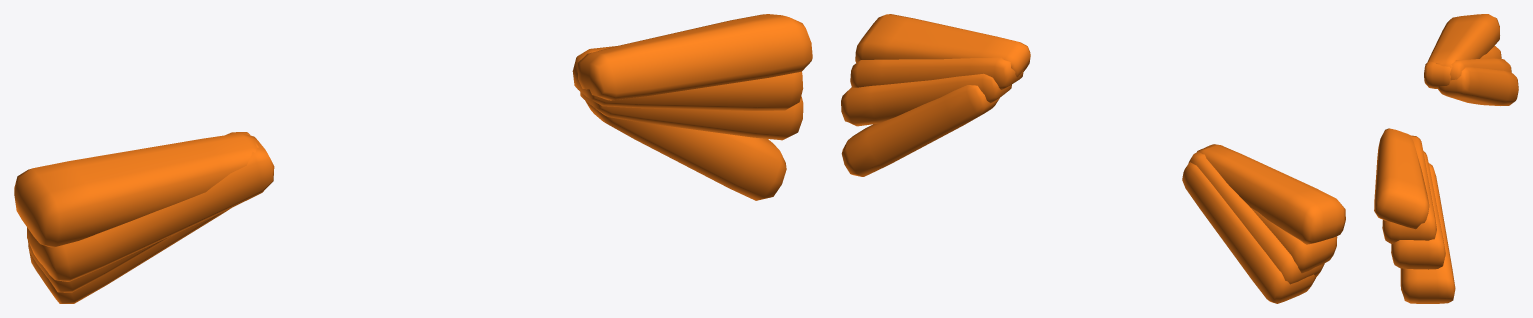
Rendered from Arms.glb.
3 renders of one model, left to right at view 1: azimuth 30°, elevation 25°; view 2: azimuth 150°, elevation 25°; view 3: azimuth 270°, elevation 25°, orthographic. The views are drawn at different scales.
Parts seen in each view (by area): view 1: 1Right1, 1Left1, 1Right2, 1Left4, 1Left2, 1Left3, 1Right4, 1Right3; view 2: 1Right1, 1Left4, 1Left1, 1Right4, 1Left3, 1Left2, 1Right3, 1Right2; view 3: 1Left1, 1Right1, 1Left4, 1Right4, 1Left3, 1Left2, 1Right2, 1Right3.
Part boxes in pixels (bbox=[...]): 1Right1: bbox=[14, 133, 259, 247]; 1Left1: bbox=[577, 14, 812, 100]; 1Right2: bbox=[27, 143, 274, 281]; 1Left4: bbox=[585, 100, 786, 200]; 1Left2: bbox=[572, 46, 803, 110]; 1Left3: bbox=[580, 92, 803, 140]; 1Right4: bbox=[28, 208, 230, 303]; 1Right3: bbox=[28, 132, 258, 292]; 1Right1: bbox=[1197, 145, 1345, 244]; 1Left4: bbox=[841, 85, 999, 176]; 1Left1: bbox=[855, 14, 1030, 77]; 1Right4: bbox=[1182, 162, 1315, 303]; 1Left3: bbox=[841, 73, 1011, 126]; 1Left2: bbox=[850, 57, 1023, 89]; 1Right3: bbox=[1188, 146, 1324, 284]; 1Right2: bbox=[1203, 144, 1337, 273]; 1Left1: bbox=[1374, 128, 1429, 229]; 1Right1: bbox=[1427, 14, 1499, 67]; 1Left4: bbox=[1400, 163, 1455, 303]; 1Right4: bbox=[1437, 67, 1518, 105]; 1Left3: bbox=[1391, 151, 1445, 269]; 1Left2: bbox=[1382, 135, 1436, 243]; 1Right2: bbox=[1424, 45, 1501, 88]; 1Right3: bbox=[1436, 58, 1511, 80].
Size of the model in its own units: 4.29 by 1.14 by 1.23.
